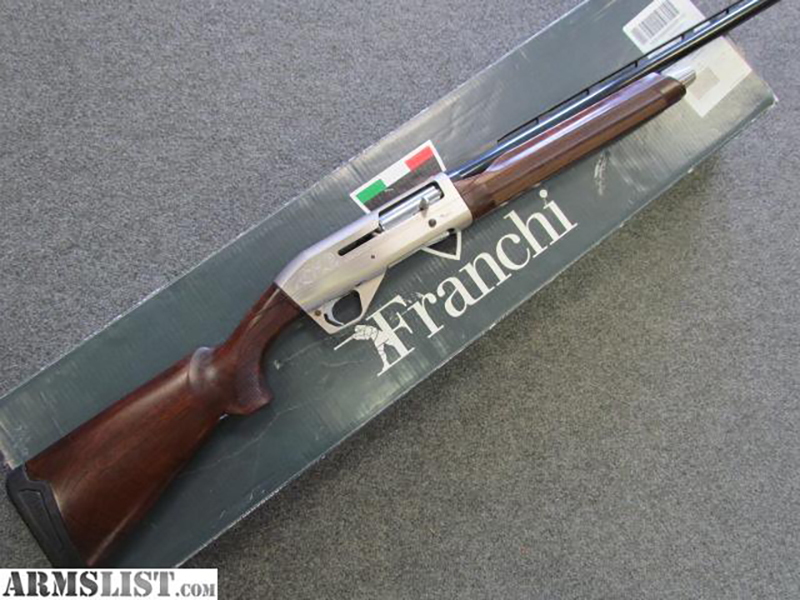fucile: (15, 7, 769, 527)
